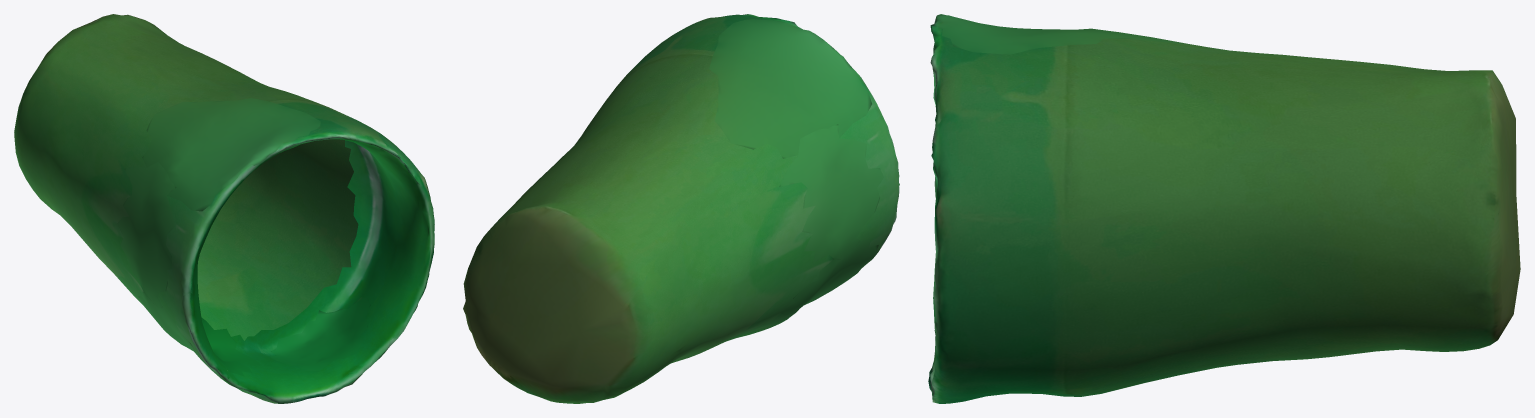
File: green_cup.obj
3 views of the same model, side by side, from view 1: azimuth 30°, elevation 25°; view 2: azimuth 150°, elevation 25°; view 3: azimuth 270°, elevation 25° (orthographic). The views are drawn at different scales.
Visible parts, largest first — view 1: mmGroup0, mmGroup14; view 2: mmGroup0, mmGroup14; view 3: mmGroup0.
Boxes of the visible parts, left/top/right/bottom form: mmGroup0: left=14, top=14, right=434, bottom=403; mmGroup14: left=129, top=173, right=161, bottom=293; mmGroup0: left=463, top=14, right=899, bottom=403; mmGroup14: left=808, top=139, right=866, bottom=246; mmGroup0: left=928, top=14, right=1520, bottom=403.
Bounding box in the file's own units: 0.0729 × 0.0736 × 0.1115.
2 materials, 2 textured.
